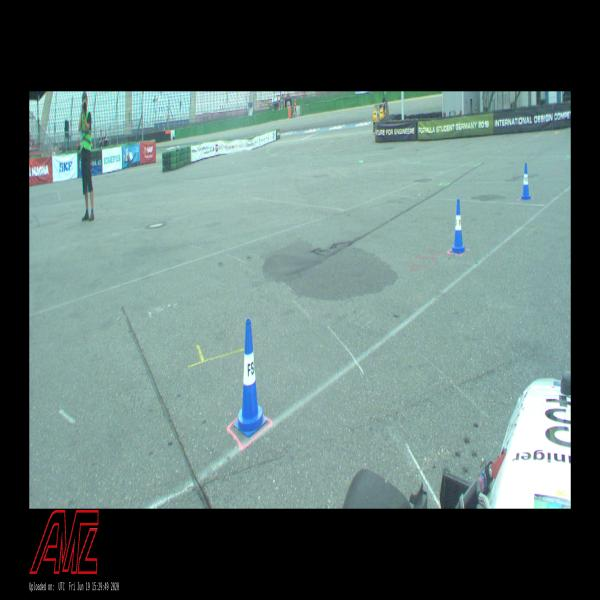blue_cone: (234, 319, 267, 437), (450, 200, 466, 254), (521, 164, 530, 200)
